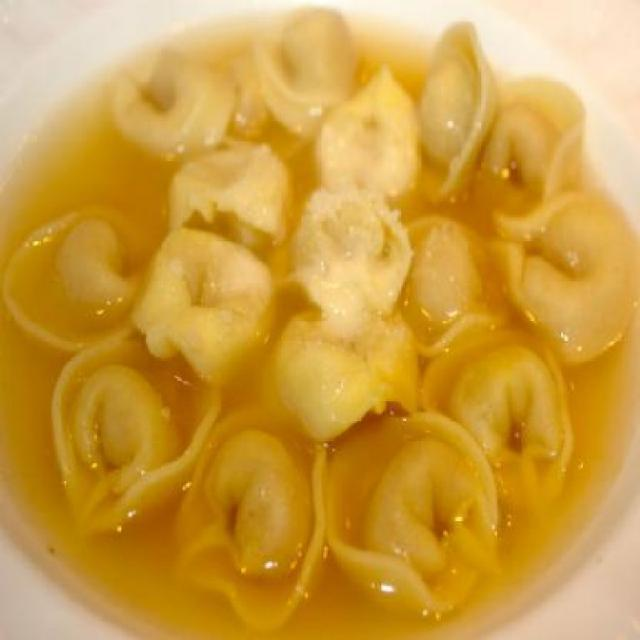Tortellini in broth: (61, 42, 604, 586)
